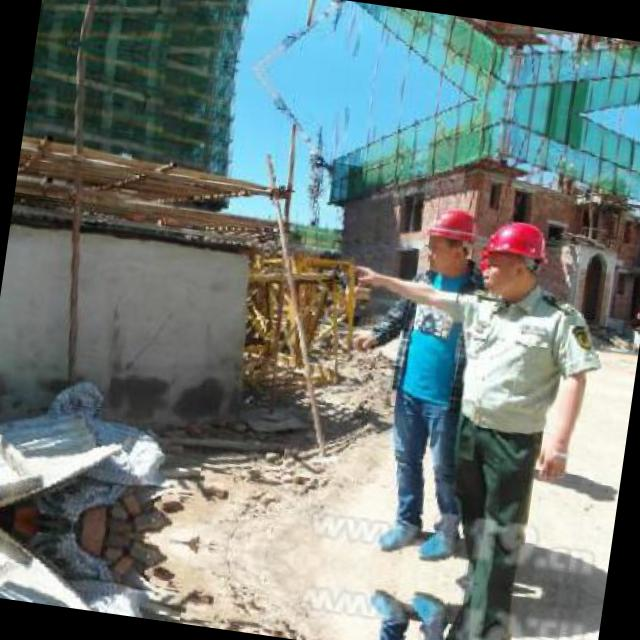helmet: (478, 214, 555, 304), (412, 202, 483, 281)
